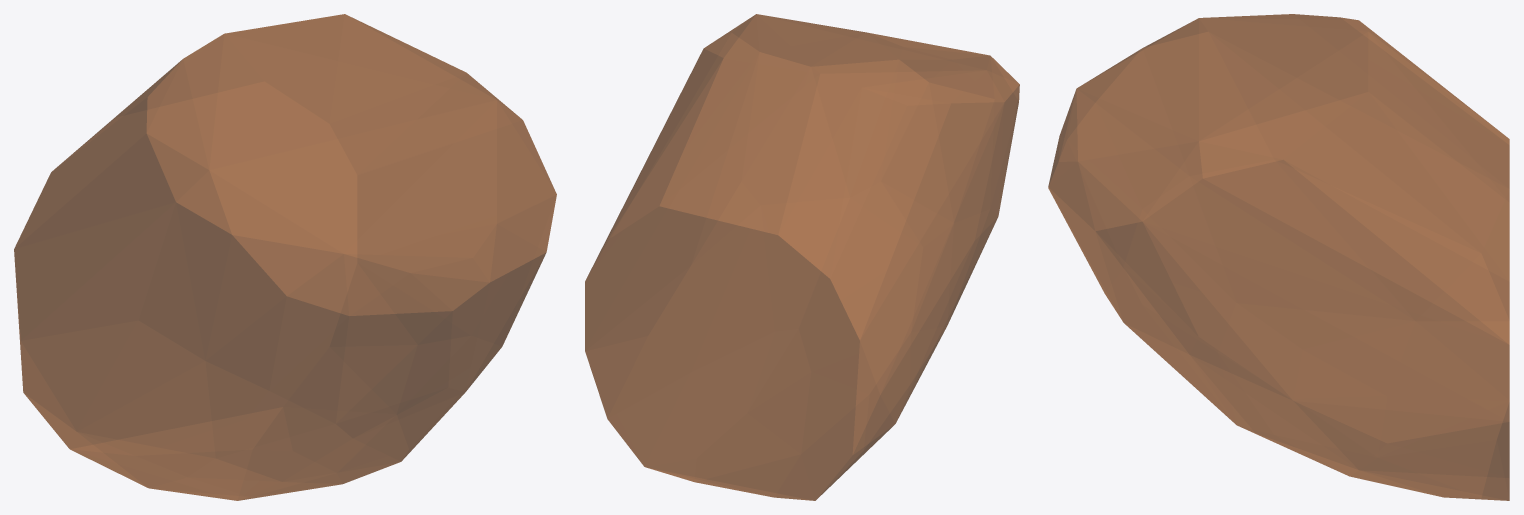
3 views of the same model, side by side, from view 1: azimuth 30°, elevation 25°; view 2: azimuth 150°, elevation 25°; view 3: azimuth 270°, elevation 25° (orthographic). The views are drawn at different scales.
Visible parts, largest first — view 1: Shape_IndexedFaceSet.005_Shape_IndexedFaceSet.8738; view 2: Shape_IndexedFaceSet.005_Shape_IndexedFaceSet.8738; view 3: Shape_IndexedFaceSet.005_Shape_IndexedFaceSet.8738.
Part boxes in pixels (box(x1,y1,x2,y2)): Shape_IndexedFaceSet.005_Shape_IndexedFaceSet.8738: box(14, 14, 556, 500); Shape_IndexedFaceSet.005_Shape_IndexedFaceSet.8738: box(585, 14, 1019, 500); Shape_IndexedFaceSet.005_Shape_IndexedFaceSet.8738: box(1048, 14, 1509, 500).
Size of the model in its own units: 0.1085 by 0.1427 by 0.1399.
